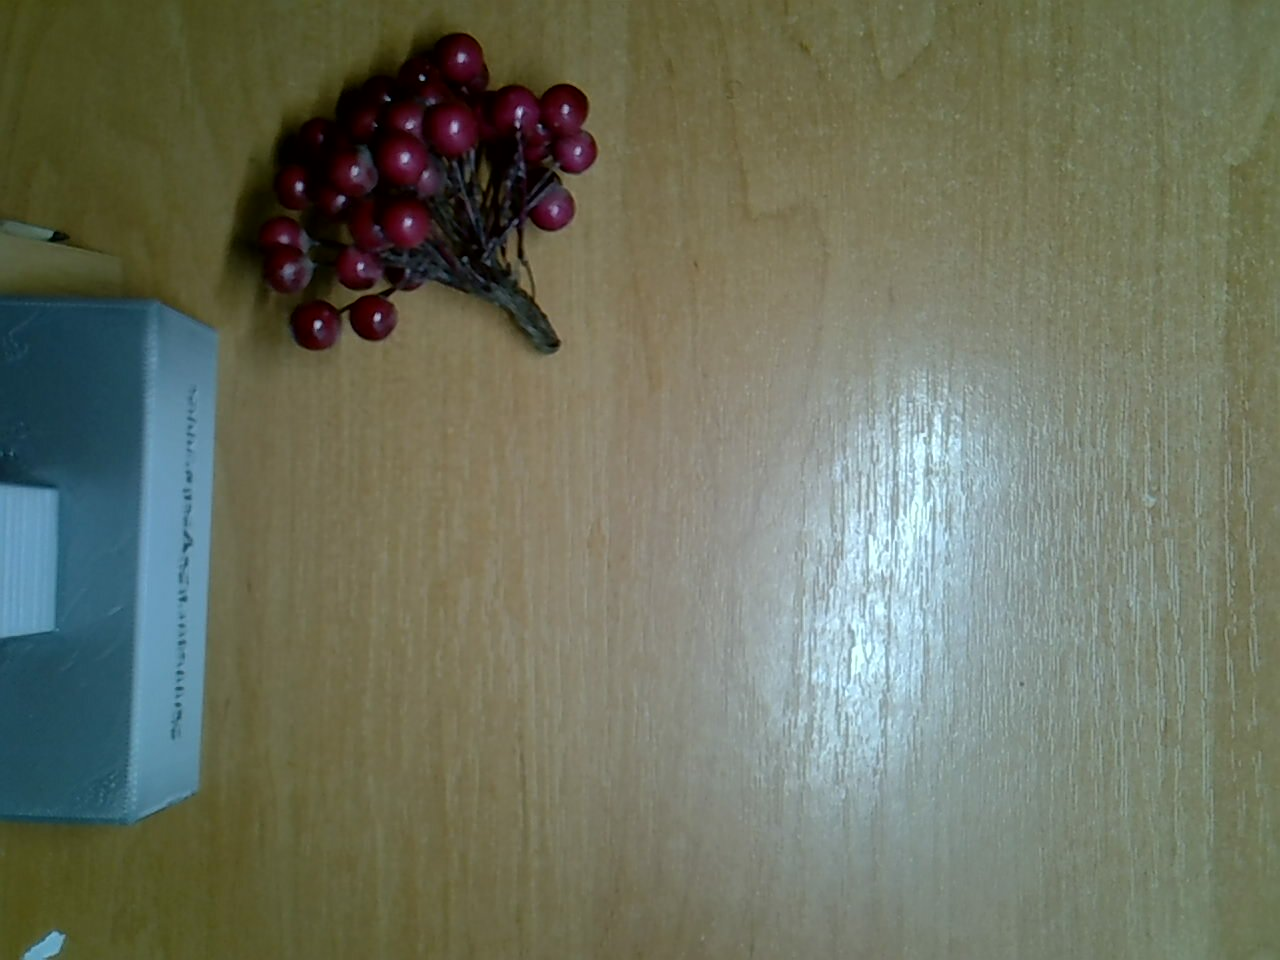berries: (236, 23, 606, 364)
